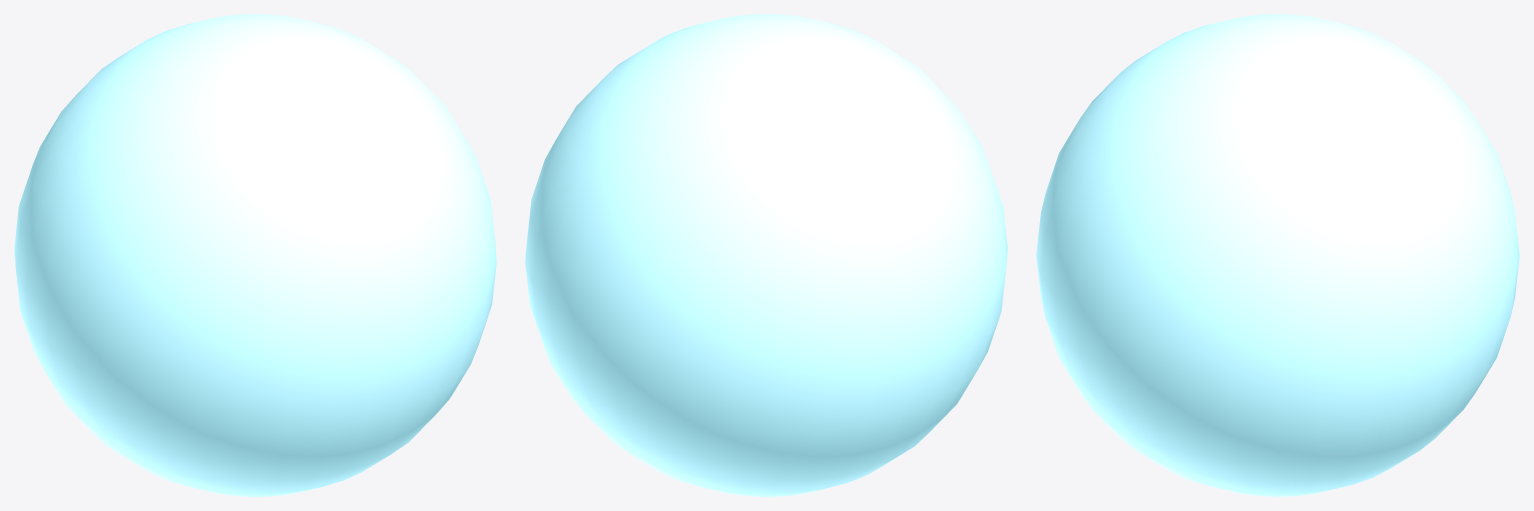
The model's file is fishbowl.glb.
The picture shows the model from 3 angles, left to right: view 1: azimuth 30°, elevation 25°; view 2: azimuth 150°, elevation 25°; view 3: azimuth 270°, elevation 25°; orthographic projection.
Parts seen in each view (by area): view 1: fishbowl; view 2: fishbowl; view 3: fishbowl.
Part boxes in pixels (bbox=[...]): fishbowl: bbox=[14, 14, 496, 496]; fishbowl: bbox=[525, 14, 1007, 496]; fishbowl: bbox=[1036, 14, 1519, 496].
Size of the model in its own units: 22.76 by 22.76 by 22.76.
